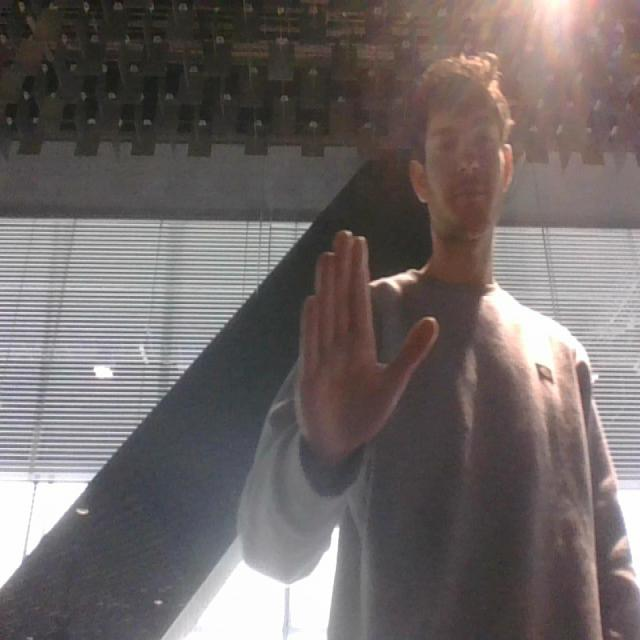backward: (290, 220, 442, 486)
